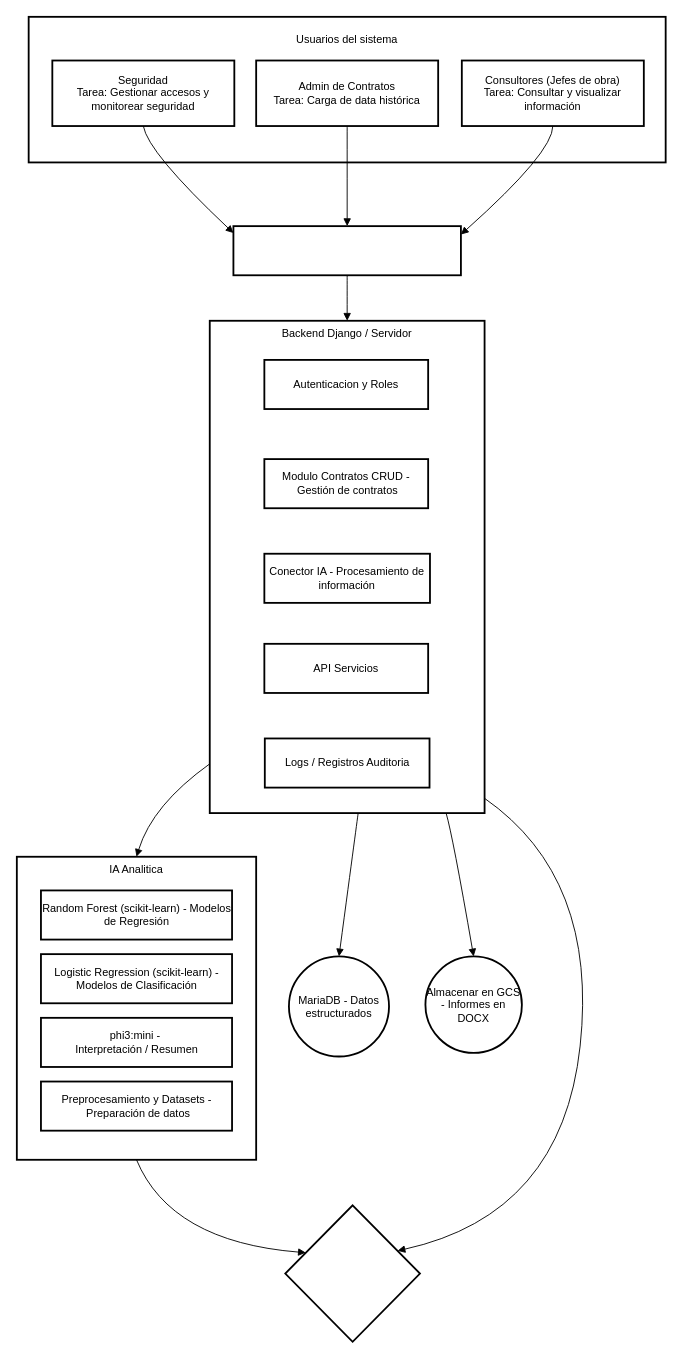
This 682x1358 diagram has some shape labels left out. The shapes that lost their labels are listed below. From the top down, each one's centre as x and y in pixels, then its label:
the point at 346,250: Frontend Web (Portal de interacción)
the point at 352,1273: Dashboard / Reportes (KPIs y Predicciones)
